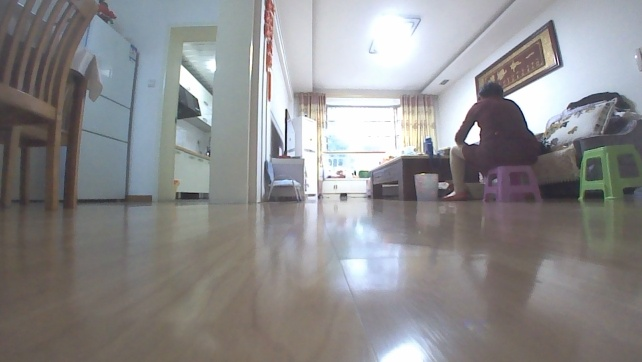refrigerator: (20, 10, 141, 205)
sofe1: (530, 96, 641, 201)
tea_table: (368, 150, 456, 203)
